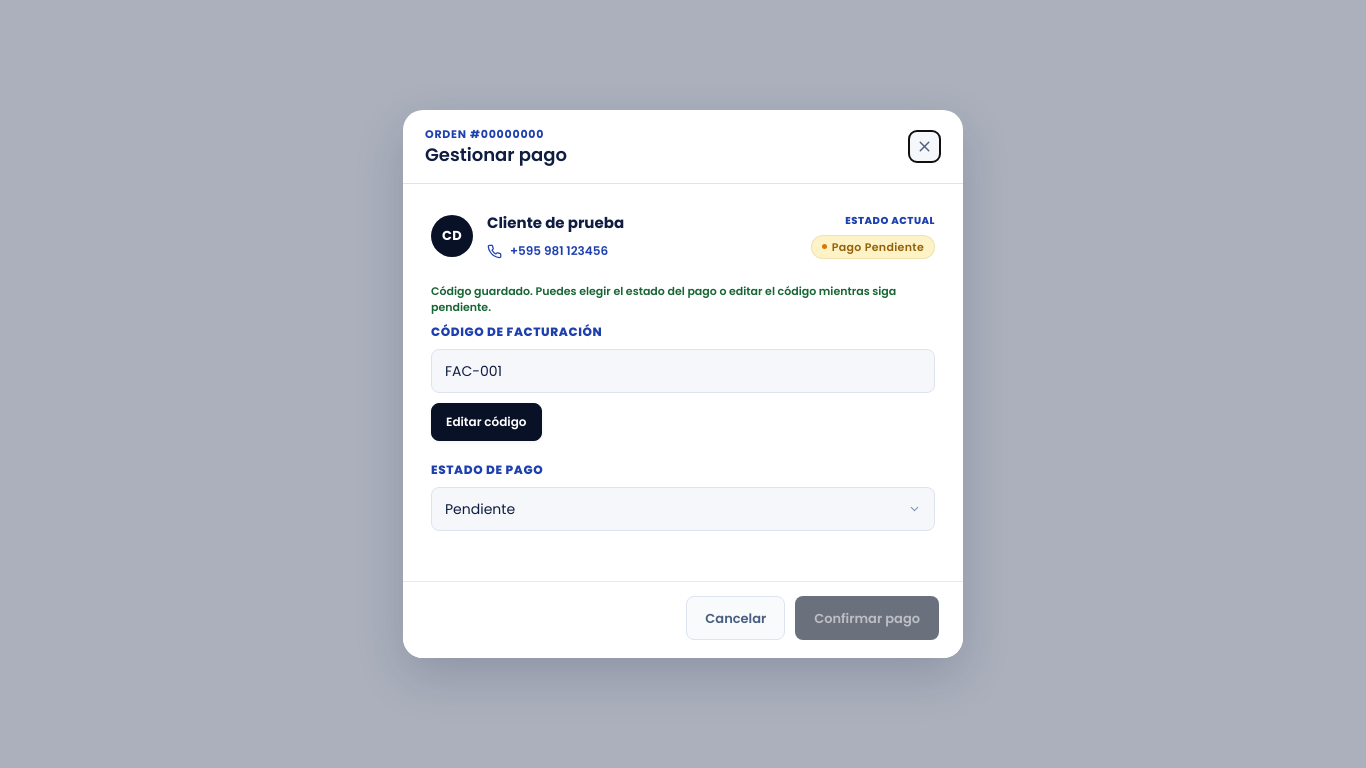
PaymentFormModal layout › retains an edited invoice draft and blocks writes after the server reports ORDER_STALE
Click the button "Editar código" at (486, 422), box x1=431 y1=404 x2=542 y2=442
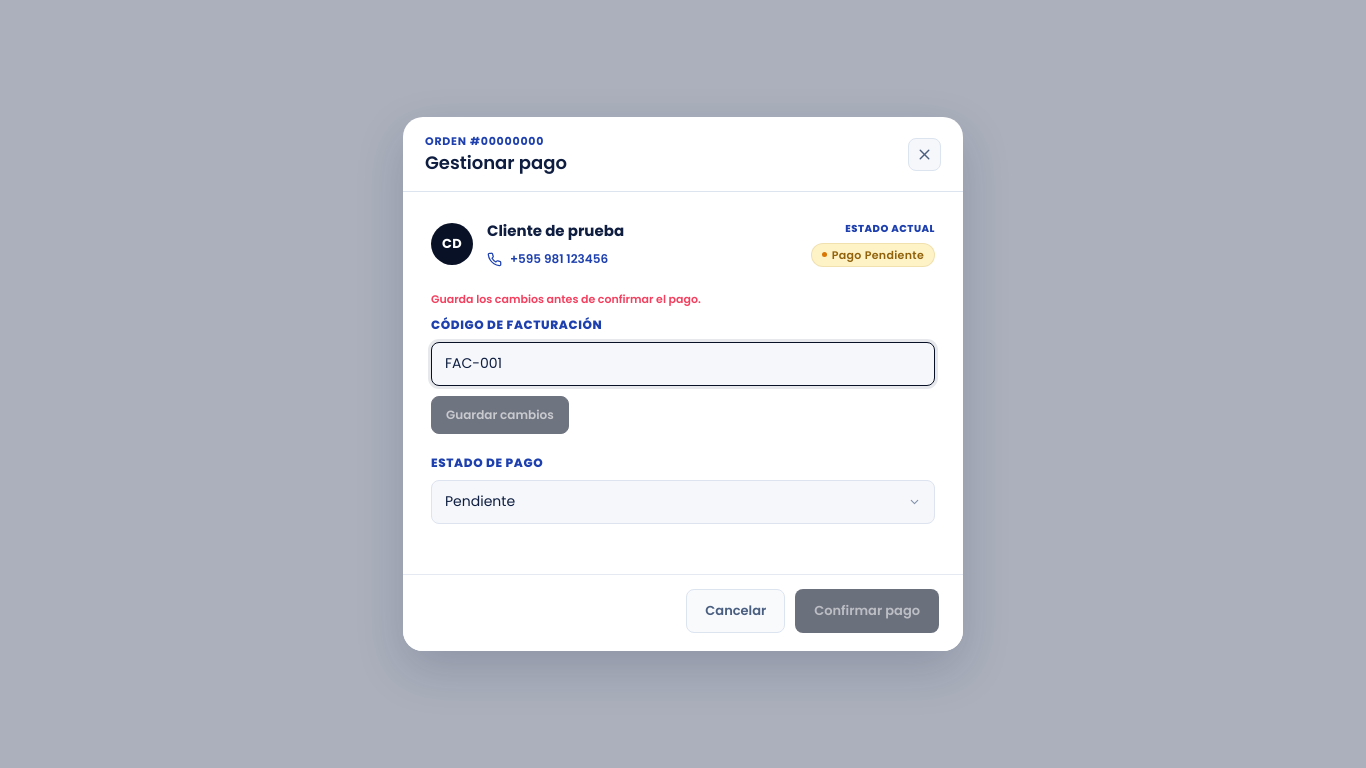
Replace the text in the field labelled "Código de facturación" with "FAC-BORRADOR" at (683, 364), box x1=431 y1=342 x2=935 y2=386
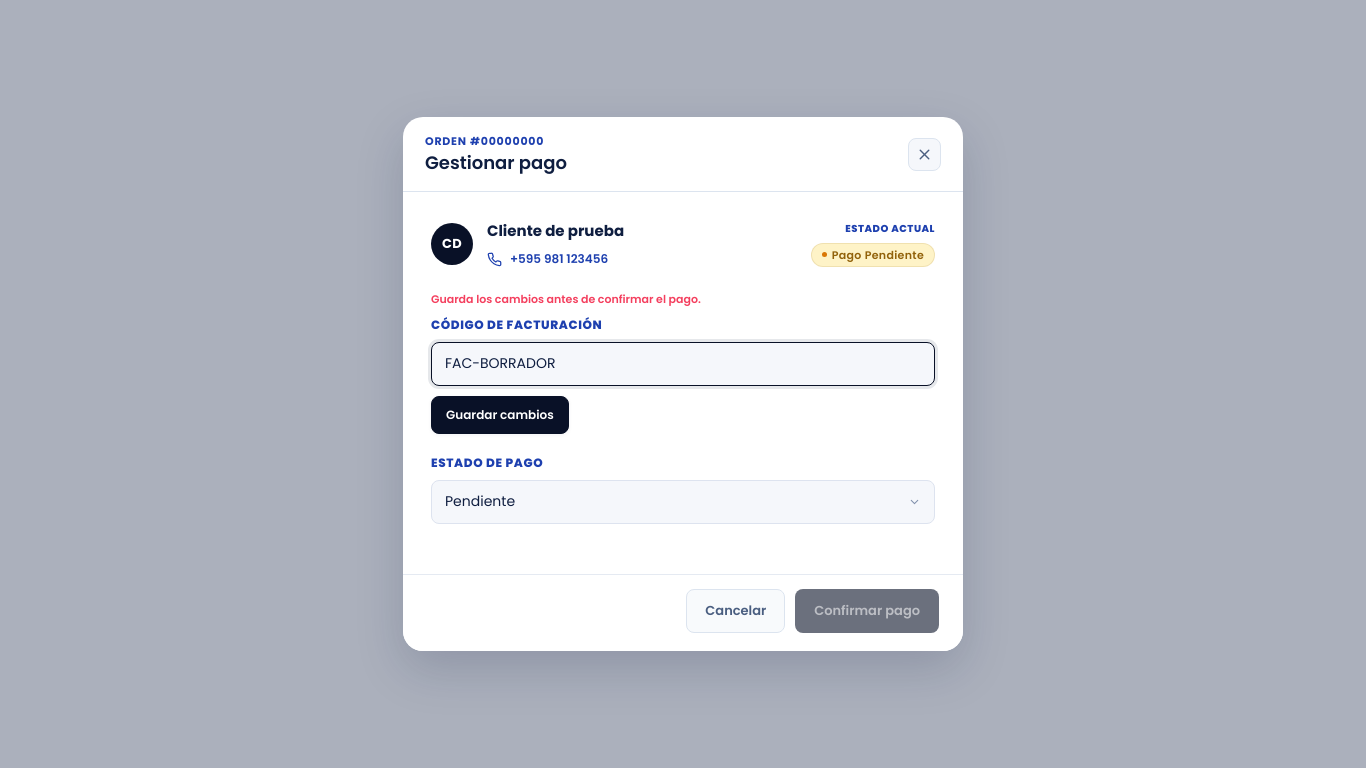
Click the button "Guardar cambios" at (500, 414), box x1=431 y1=396 x2=569 y2=434
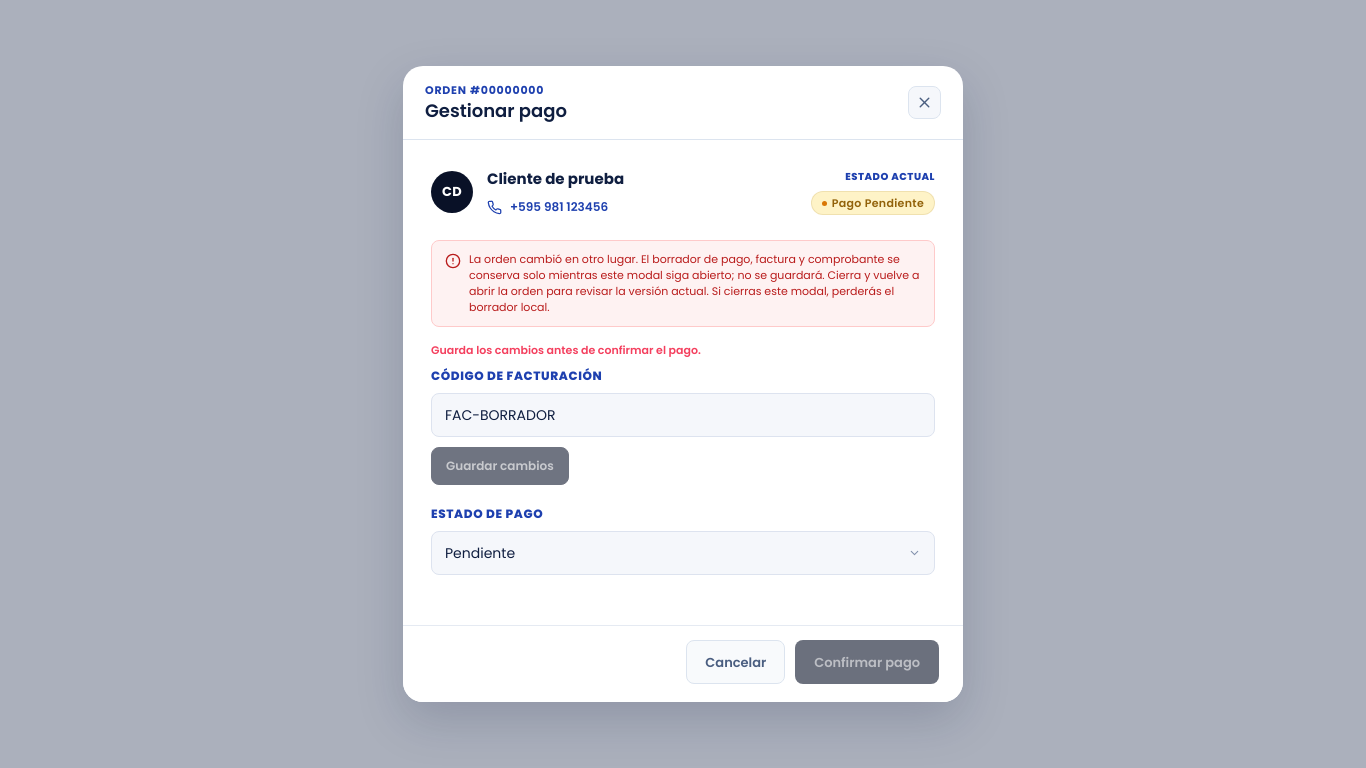
Check: the message shows "La orden cambió en otro lugar", box x1=469 y1=251 x2=919 y2=314
Check: the button "Guardar cambios" is disabled, box x1=431 y1=447 x2=569 y2=485
